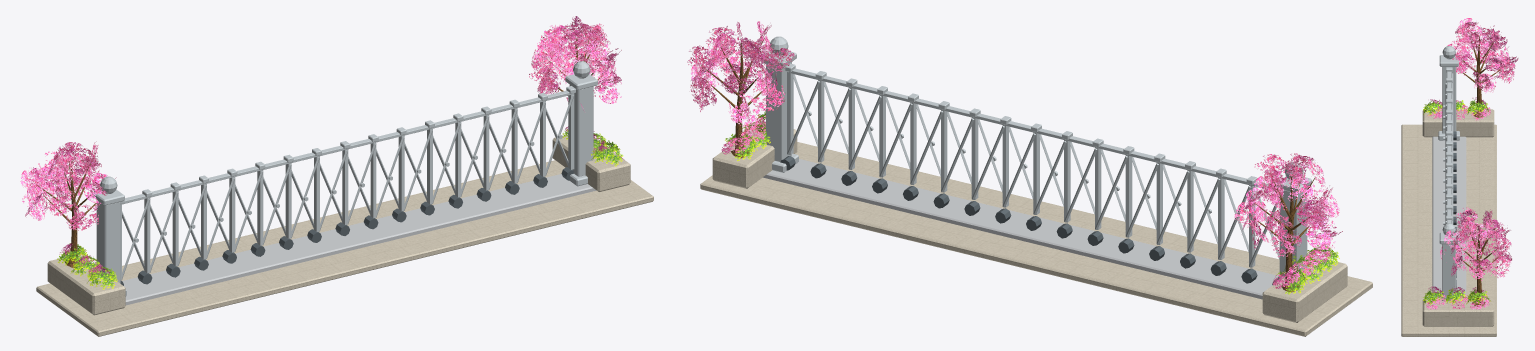
The model's file is P03_gate_barrier_v2.glb.
3 views of the same model, side by side, from view 1: azimuth 30°, elevation 25°; view 2: azimuth 150°, elevation 25°; view 3: azimuth 270°, elevation 25° (orthographic). The views are drawn at different scales.
Parts seen in each view (by area): view 1: GAME_V2_Pedestal_stone, GAME_Brushed silver, GAME_Pale stone, GAME_V2_Blossom_cutout, GAME_Dark wheel rubber, GAME_V2_Leaf_cutout, GAME_V2_Bark; view 2: GAME_V2_Pedestal_stone, GAME_Brushed silver, GAME_V2_Blossom_cutout, GAME_Pale stone, GAME_Dark wheel rubber, GAME_V2_Bark, GAME_V2_Leaf_cutout; view 3: GAME_V2_Pedestal_stone, GAME_V2_Blossom_cutout, GAME_Brushed silver, GAME_Pale stone, GAME_V2_Leaf_cutout, GAME_V2_Bark, GAME_Dark wheel rubber.
Boxes of the visible parts, <box> form: GAME_V2_Pedestal_stone: <box>36,134,653,336</box>; GAME_Brushed silver: <box>92,61,597,296</box>; GAME_Pale stone: <box>122,174,596,305</box>; GAME_V2_Blossom_cutout: <box>20,16,624,280</box>; GAME_Dark wheel rubber: <box>120,167,573,285</box>; GAME_V2_Leaf_cutout: <box>57,129,623,289</box>; GAME_V2_Bark: <box>36,28,601,268</box>; GAME_V2_Pedestal_stone: <box>700,122,1372,336</box>; GAME_Brushed silver: <box>761,36,1311,277</box>; GAME_V2_Blossom_cutout: <box>687,21,1342,288</box>; GAME_Pale stone: <box>763,159,1279,299</box>; GAME_Dark wheel rubber: <box>780,156,1280,284</box>; GAME_V2_Bark: <box>701,38,1315,292</box>; GAME_V2_Leaf_cutout: <box>725,111,1339,294</box>; GAME_V2_Pedestal_stone: <box>1401,109,1496,336</box>; GAME_V2_Blossom_cutout: <box>1426,18,1518,309</box>; GAME_Brushed silver: <box>1438,45,1459,301</box>; GAME_Pale stone: <box>1432,136,1466,298</box>; GAME_V2_Leaf_cutout: <box>1423,100,1490,304</box>; GAME_V2_Bark: <box>1456,32,1505,306</box>; GAME_Dark wheel rubber: <box>1453,131,1456,287</box>.
Bounding box in the file's own units: 8.66 × 2.1 × 1.93.
Materials: 7 (4 with a texture image).
